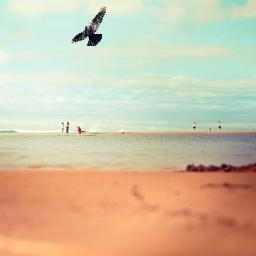Crow: (70, 4, 107, 46)
